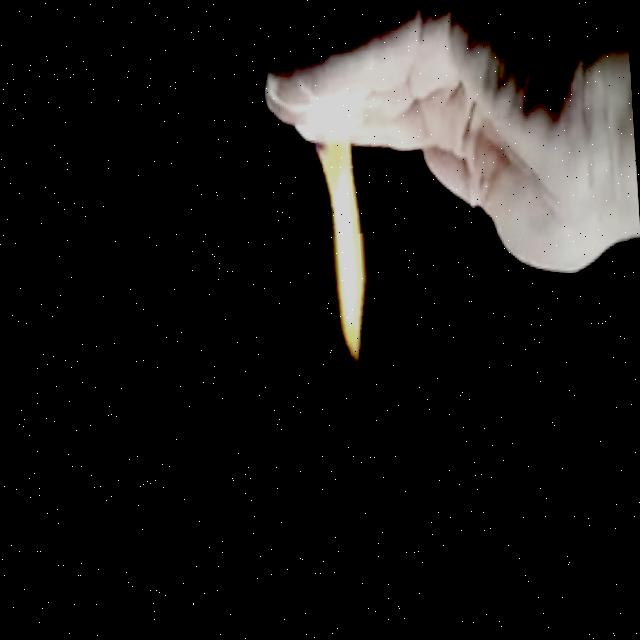Fire: (304, 109, 381, 388)
